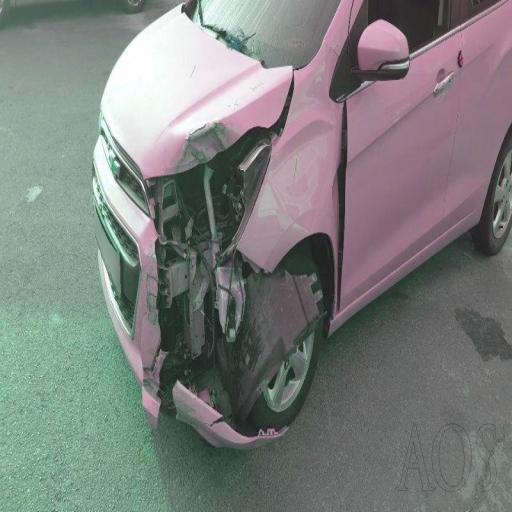broken: (123, 83, 395, 442)
